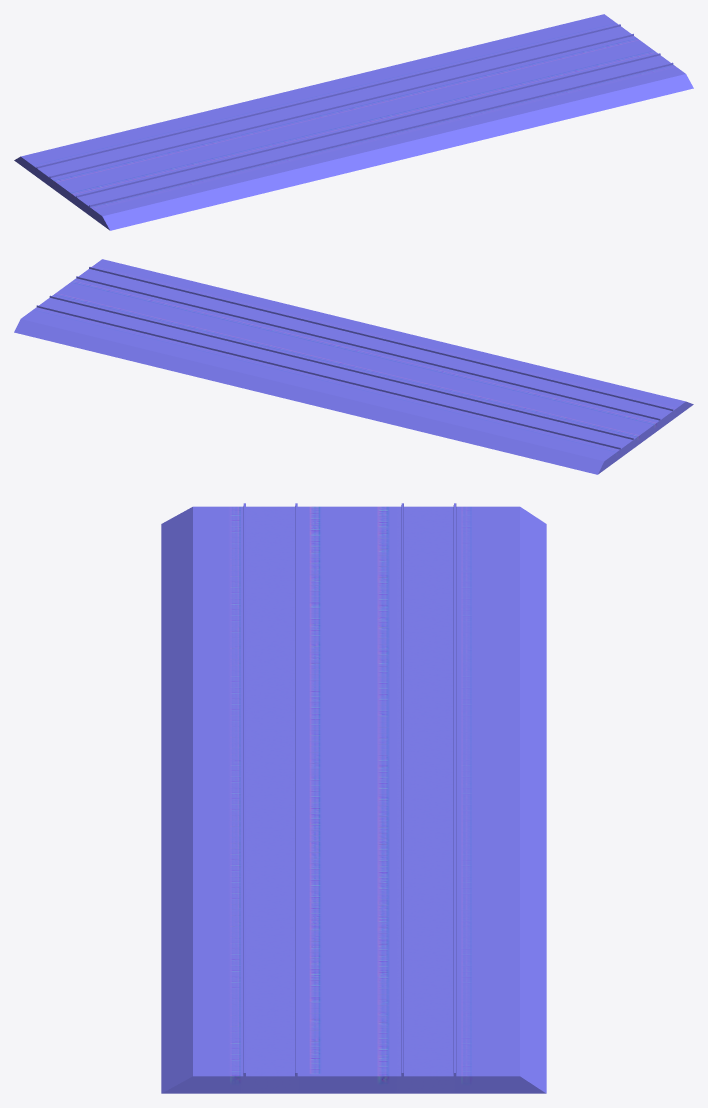
Rendered from Rail_clone.FBX.
The picture shows the model from 3 angles, top to bottom: view 1: azimuth 30°, elevation 25°; view 2: azimuth 150°, elevation 25°; view 3: azimuth 270°, elevation 25°; orthographic projection. The views are drawn at different scales.
Parts seen in each view (by area): view 1: Box001; view 2: Box001; view 3: Box001.
Part boxes in pixels (x1,y1,x2,y2): Box001: (14, 14, 693, 230); Box001: (14, 259, 693, 474); Box001: (161, 503, 546, 1093).
Bounding box in the file's own units: 70 × 1.19 × 20.
